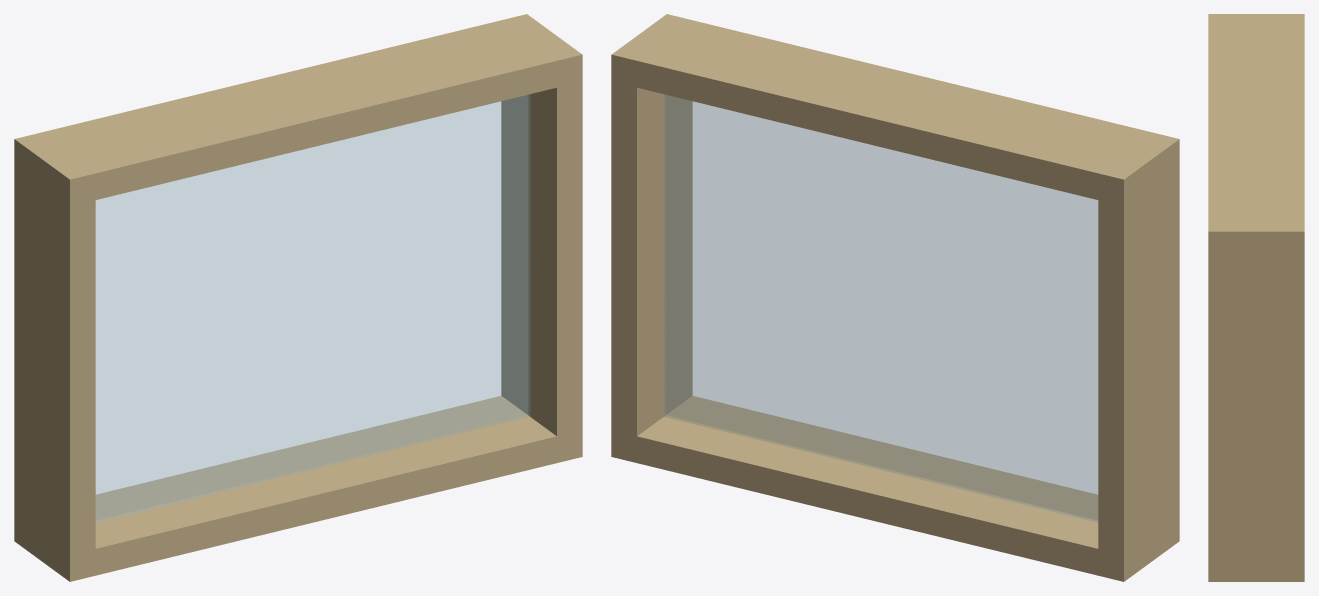
Rendered from janela_80x60.glb.
The picture shows the model from 3 angles, left to right: view 1: azimuth 30°, elevation 25°; view 2: azimuth 150°, elevation 25°; view 3: azimuth 270°, elevation 25°; orthographic projection. The views are drawn at different scales.
Parts seen in each view (by area): view 1: janela_80x60; view 2: janela_80x60; view 3: janela_80x60.
Part boxes in pixels (x1,y1,x2,y2): janela_80x60: (14, 14, 582, 581); janela_80x60: (611, 14, 1179, 581); janela_80x60: (1208, 14, 1304, 581).
Bounding box in the file's own units: 0.8 × 0.6 × 0.15.
